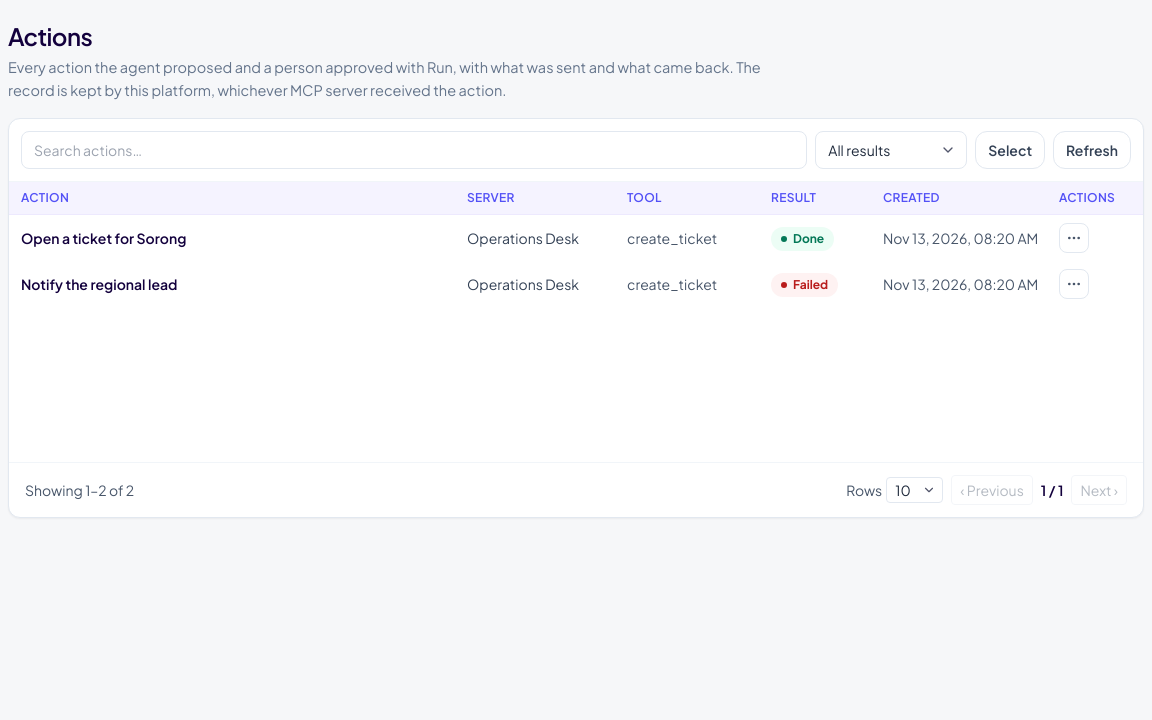
ActionsPage › searches and filters by result
This screenshot has width=1152, height=720.
Expected: the button "Open a ticket for Sorong" is shown, x1=21 y1=228 x2=186 y2=248
Select "Failed" in the dropdown named "Filter by result" at [891, 150], box x1=815 y1=131 x2=967 y2=169
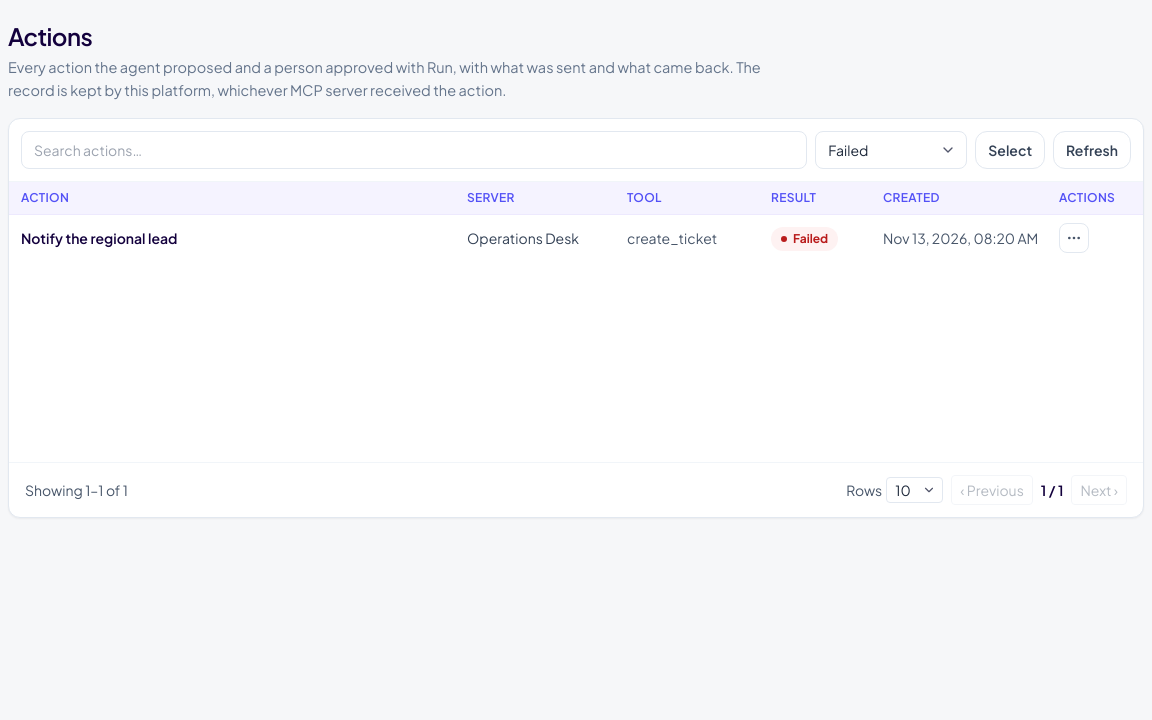
Expected: the button "Notify the regional lead" is shown, x1=21 y1=228 x2=177 y2=248
Now the button "Open a ticket for Sorong" is gone
Select "All results" in the dropdown named "Filter by result" at [891, 150], box x1=815 y1=131 x2=967 y2=169
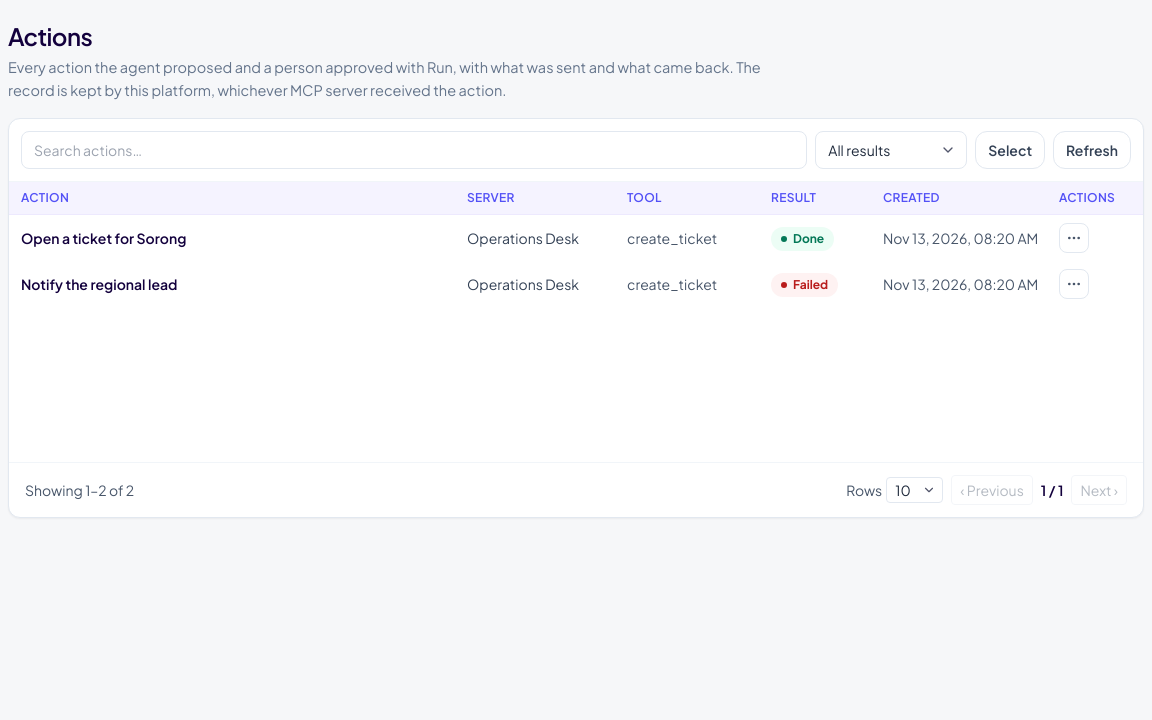
Type "sorong" into the search field labelled "Search actions" at [414, 150], box x1=21 y1=131 x2=807 y2=169
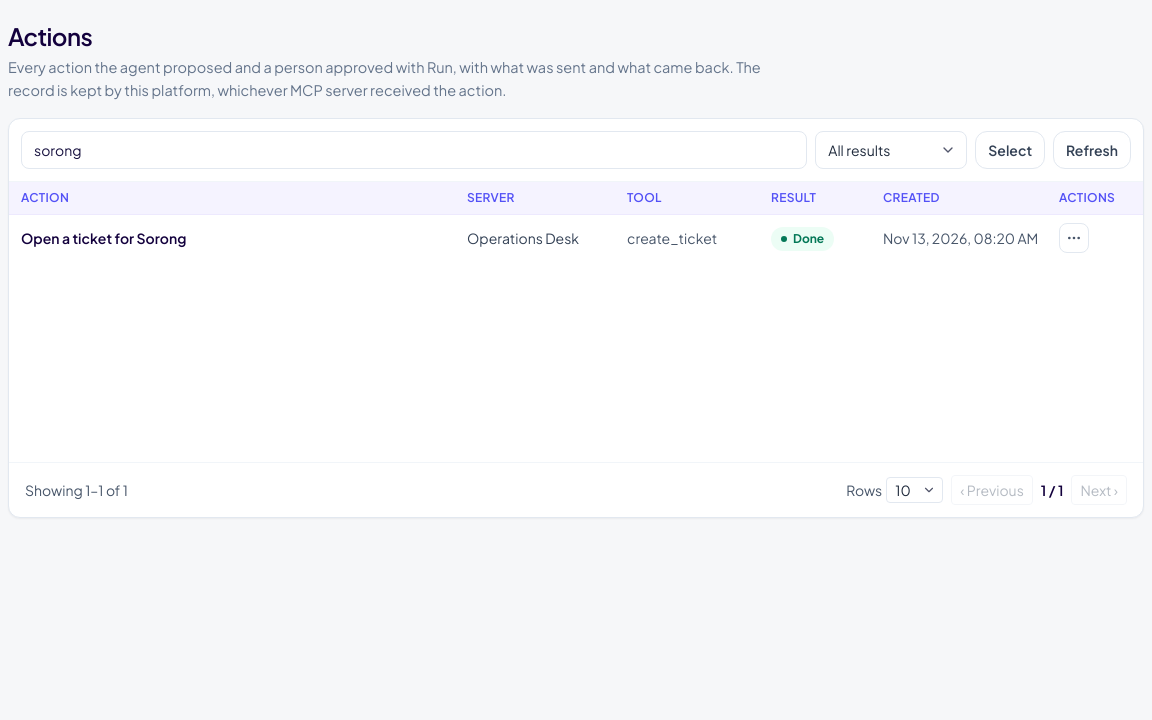
Now the button "Notify the regional lead" is gone
